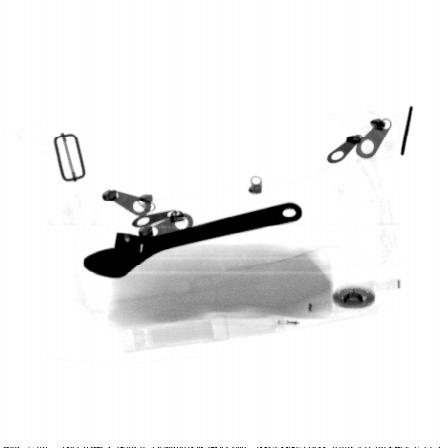Wrench: (80, 200, 304, 280)
